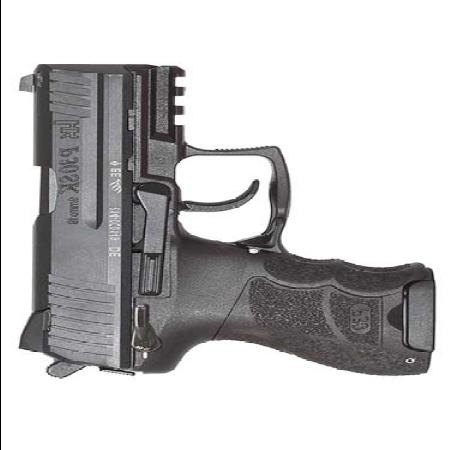Pistol: (12, 57, 433, 381)
